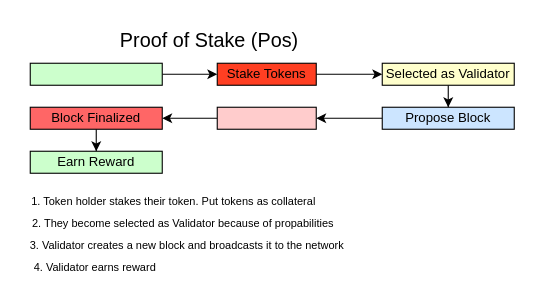
The diagram is 534 pixels wide and 301 high, and some of its shapes have lost their labels. Here are the shapes that lost their labels. From the top down, the centre of each, then its label:
At point 95,73: "Token Holder".
At point 266,117: "Block Validation".
